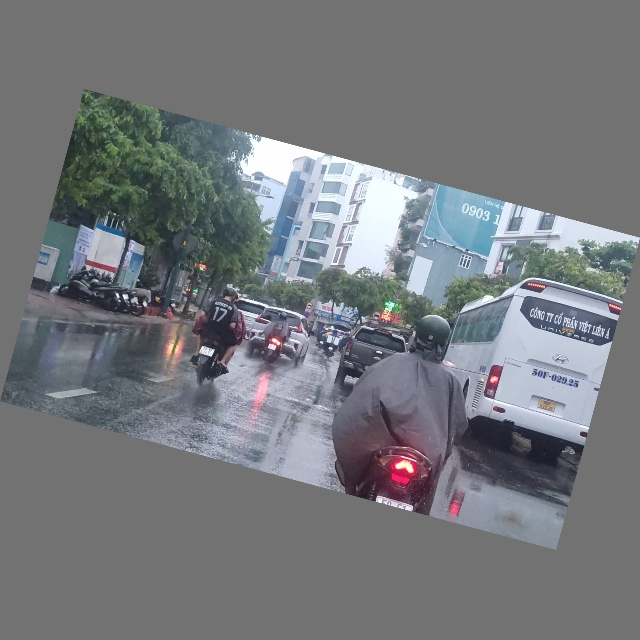P.106a*Xe tai: (371, 311, 382, 323), (306, 302, 314, 310)
P.131a: (303, 312, 310, 320)
